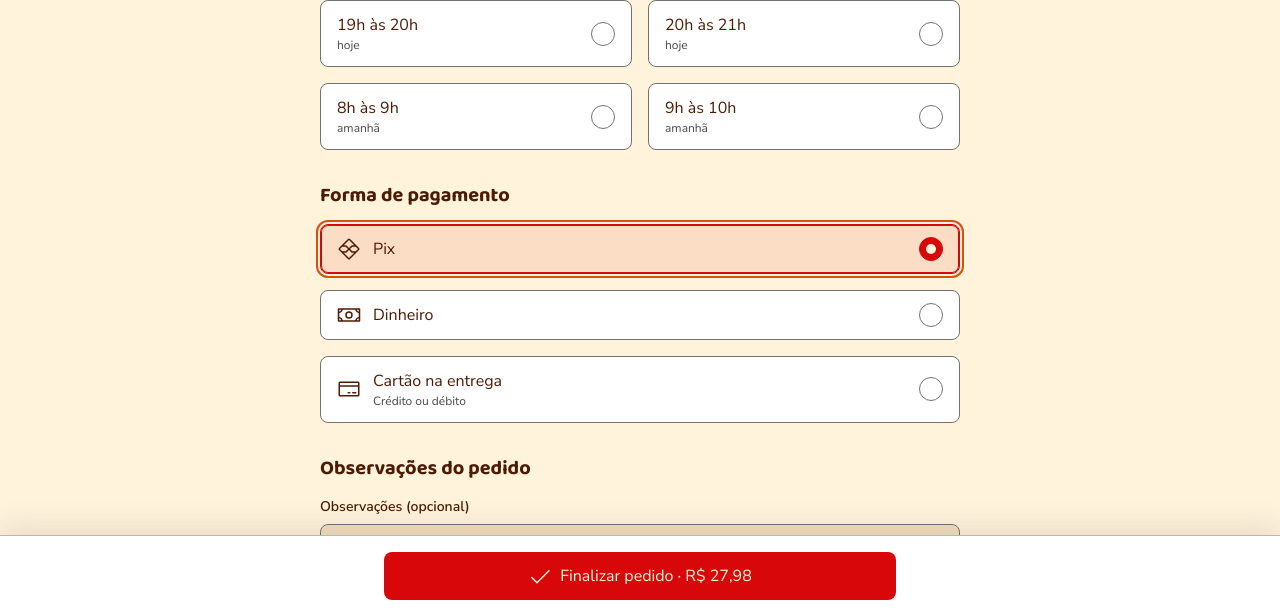
Test: taxa de entrega por CEP no Seu pedido › fora do raio: avisa, não deixa finalizar o delivery e oferece retirada, localização e WhatsApp
Earlier steps of the test are not shown.
(page scrolled)
Click the button "Finalizar pedido · R$ 27,98" at (640, 576), box top-left (384, 552), bottom-right (896, 600)
(page scrolled)
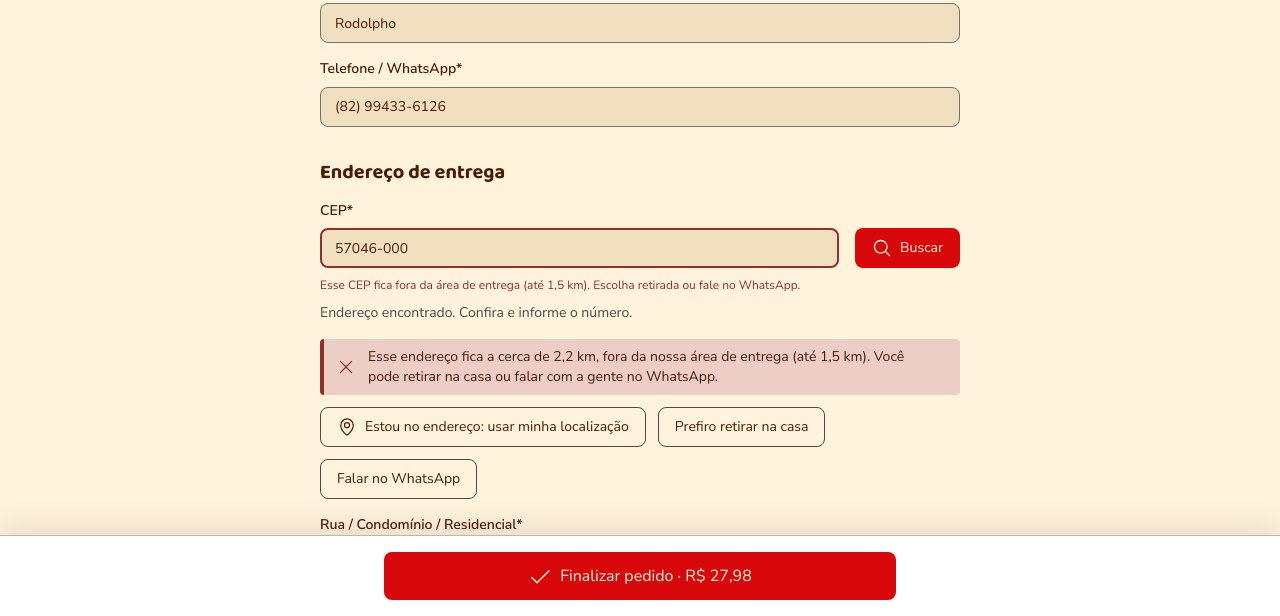
Expected: the text "Esse CEP fica fora da área de entrega" is shown, top-left (320, 277), bottom-right (800, 293)
Click the button "Prefiro retirar na casa" at (742, 427), box top-left (658, 407), bottom-right (826, 447)
(page scrolled)
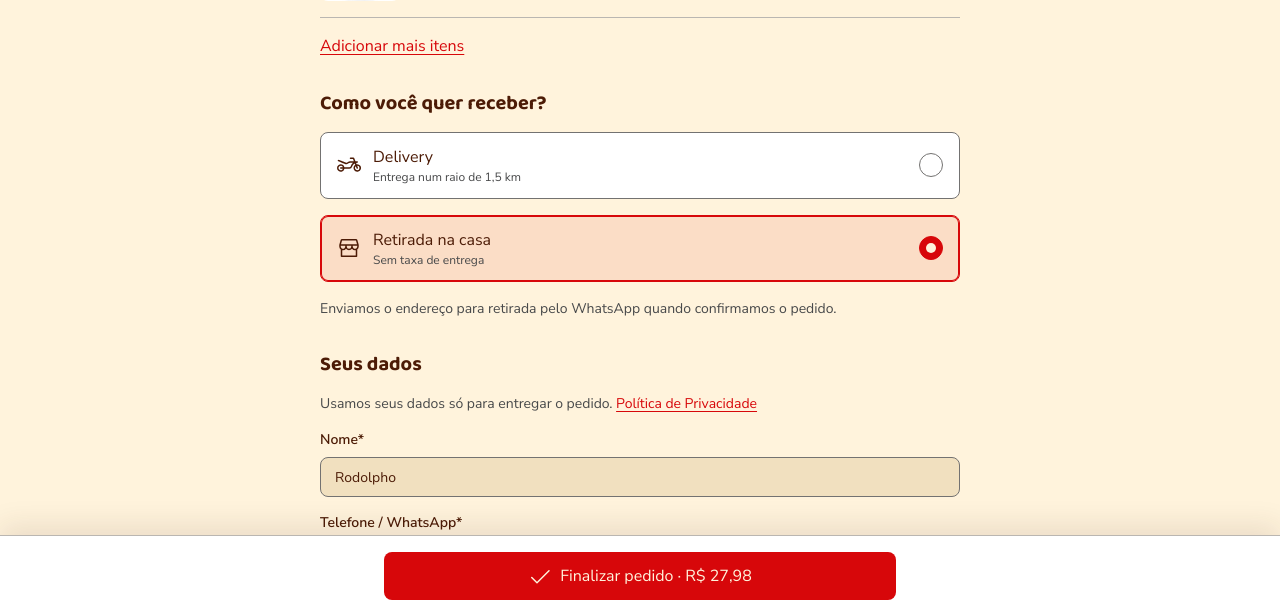
Expected: the field labelled "CEP*" is not shown
Expected: the radio button labelled "Retirada na casa Sem taxa de entrega" is checked, top-left (320, 215), bottom-right (960, 282)
